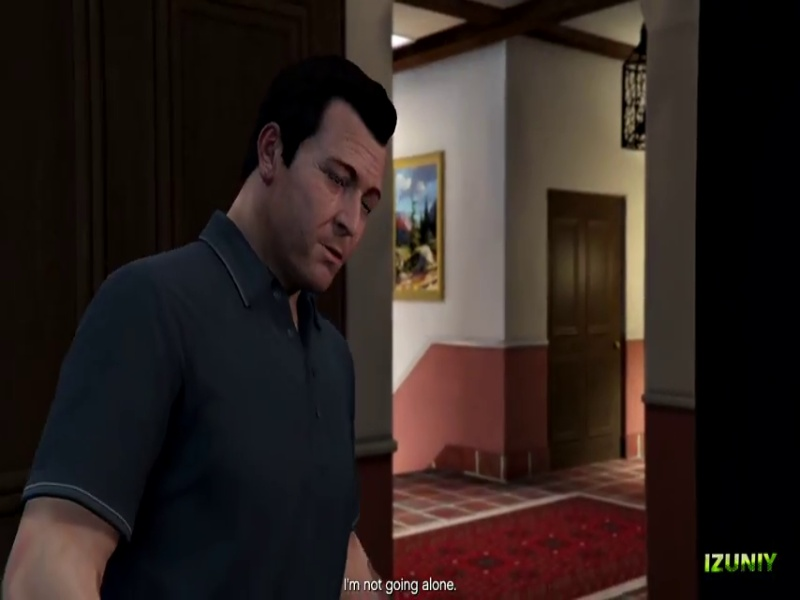human: (6, 57, 394, 595)
